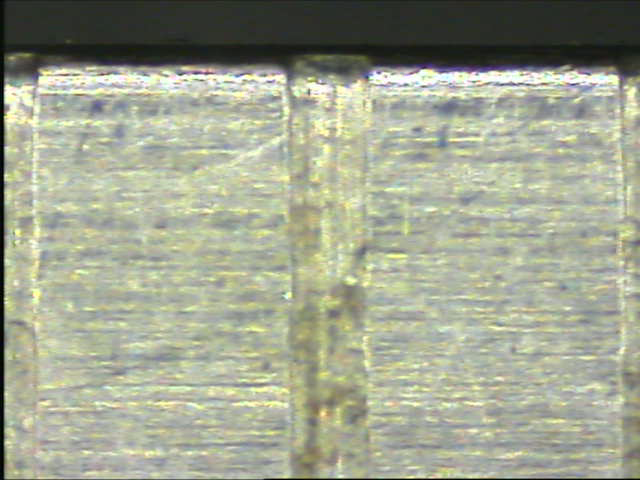line: (285, 51, 376, 478)
